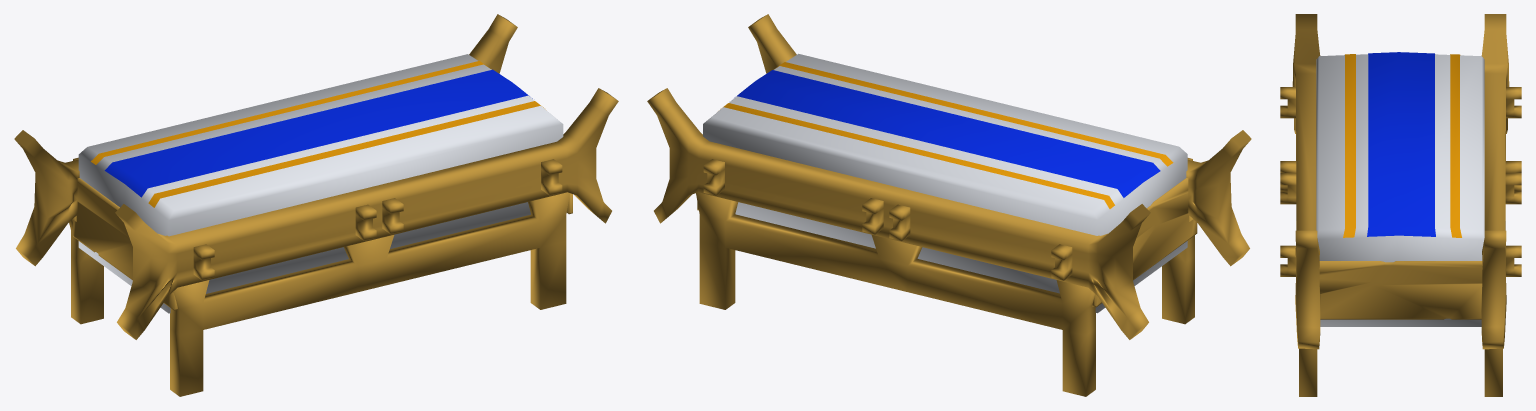
File: Ga-MatoranBed1.fbx
3 views of the same model, side by side, from view 1: azimuth 30°, elevation 25°; view 2: azimuth 150°, elevation 25°; view 3: azimuth 270°, elevation 25° (orthographic). The views are drawn at different scales.
Visible parts, largest first — view 1: Cube_060; view 2: Cube_060; view 3: Cube_060.
Boxes of the visible parts, box(x1,y1,x2,y2) form: Cube_060: box(14, 14, 618, 396); Cube_060: box(647, 14, 1251, 396); Cube_060: box(1280, 14, 1521, 396).
Bounding box in the file's own units: 0.3391 × 0.1306 × 0.1539.
